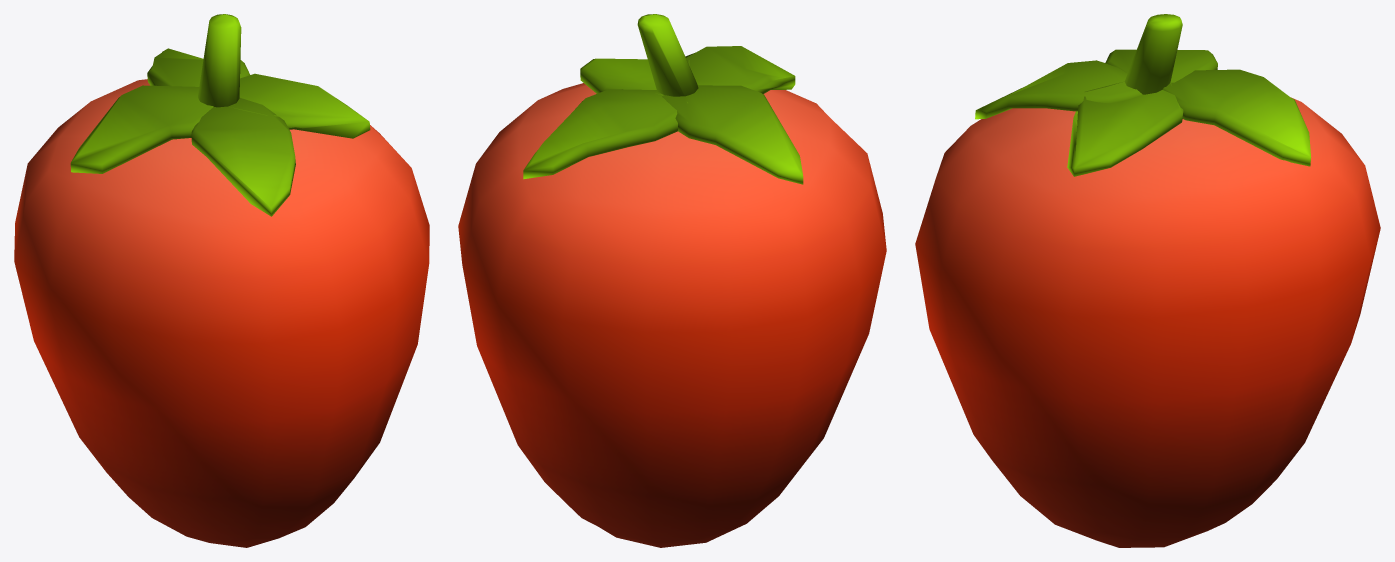
Rendered from Strawberry1.fbx.
The picture shows the model from 3 angles, left to right: view 1: azimuth 30°, elevation 25°; view 2: azimuth 150°, elevation 25°; view 3: azimuth 270°, elevation 25°; orthographic projection. The views are drawn at different scales.
Visible parts, largest first — view 1: strawberryy; view 2: strawberryy; view 3: strawberryy.
Boxes of the visible parts, bbox=[...] form: strawberryy: bbox=[14, 14, 429, 547]; strawberryy: bbox=[458, 14, 886, 547]; strawberryy: bbox=[915, 14, 1380, 547].
Bounding box in the file's own units: 53.58 × 72.96 × 58.83.
